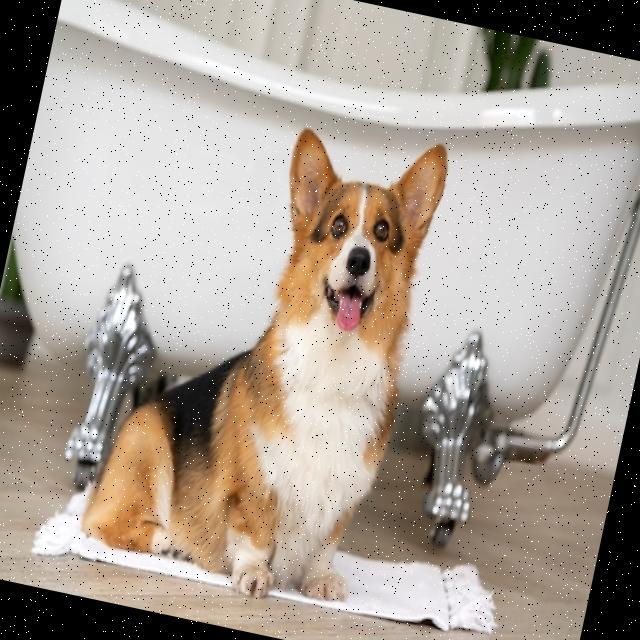Dog: (72, 88, 452, 618)
